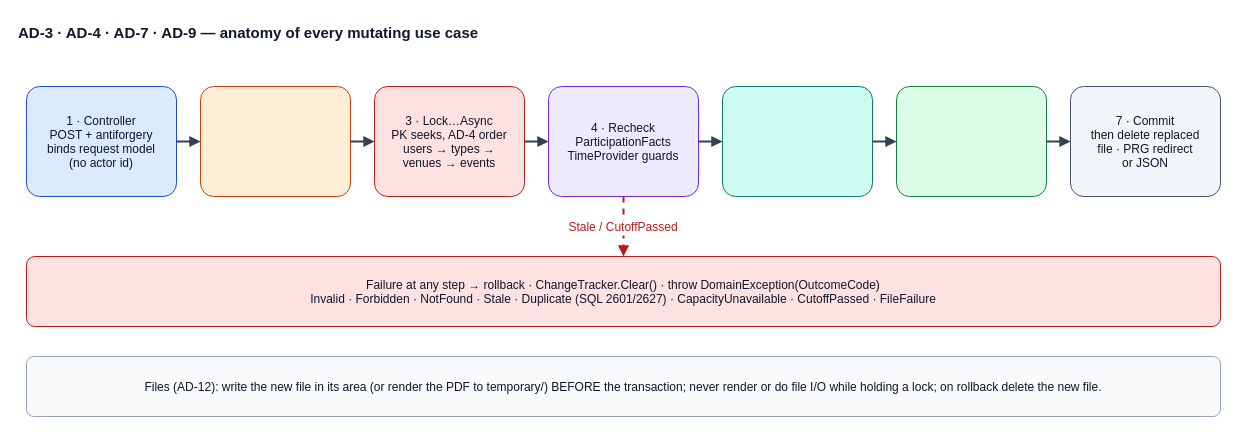
Image size: 1253x433. Some labels were removed from this diagram. Here are the shapes that lost their labels. From the top down, the centre of each, then its label:
At (x=275, y=141): "2 · ExecuteIn- TransactionAsync one transaction RCSI · no auto-retry".
At (x=797, y=141): "5 · Mutate + hooks owner repo only flush for identity ids".
At (x=971, y=141): "6 · Audit IActivityLogWriter .Append — same transaction".
